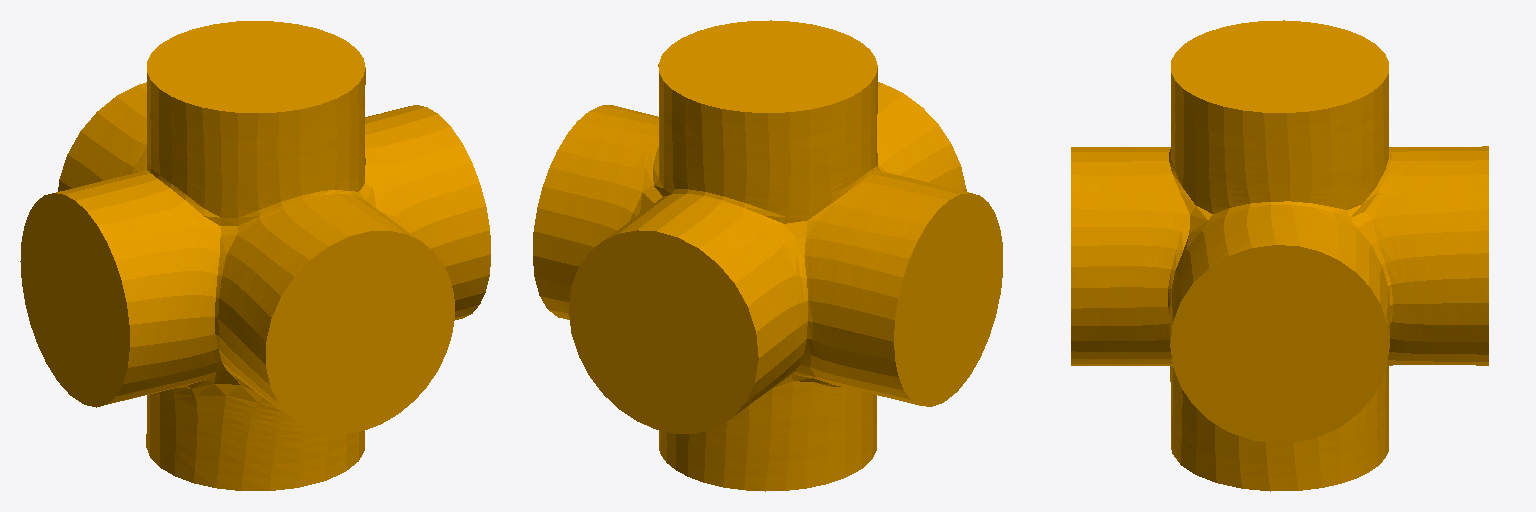
URDF robot description (object):
<robot name="object">
  <link name="object">
    <visual>
      <origin xyz="0 0 0"/>
      <geometry>
        <mesh filename="visual.obj" scale="1 1 1"/>
      </geometry>
    </visual>
    <collision>
      <origin xyz="0 0 0"/>
      <geometry>
        <mesh filename="visual.obj" scale="1 1 1"/>
      </geometry>
    </collision>
    <inertial>
      <mass value="0.05"/>
      <inertia ixx="4.525942623312592e-05" iyy="4.5253518742128444e-05" izz="4.5260131330728624e-05" ixy="-1.7982016749951113e-09" ixz="-4.664303639479774e-09" iyz="6.795137413577533e-09"/>
    </inertial>
  </link>
</robot>

--- Render facts (derived) ---
Views: 3 orthographic renders of the robot side by side, from view 1: azimuth 30°, elevation 25°; view 2: azimuth 150°, elevation 25°; view 3: azimuth 270°, elevation 25°.
Model object with 1 links and 0 joints (none), rooted at object, posed all joints at 0.
Links seen in each view (by area): view 1: object; view 2: object; view 3: object.
Boxes of the visible links, left/top/right/bottom form: object: left=20, top=21, right=490, bottom=490; object: left=533, top=20, right=1002, bottom=491; object: left=1071, top=20, right=1488, bottom=491.
Size in the robot's own frame: 0.096 by 0.096 by 0.096 metres.
1 mesh visuals loaded from 1 distinct referenced files (1 OBJ).
